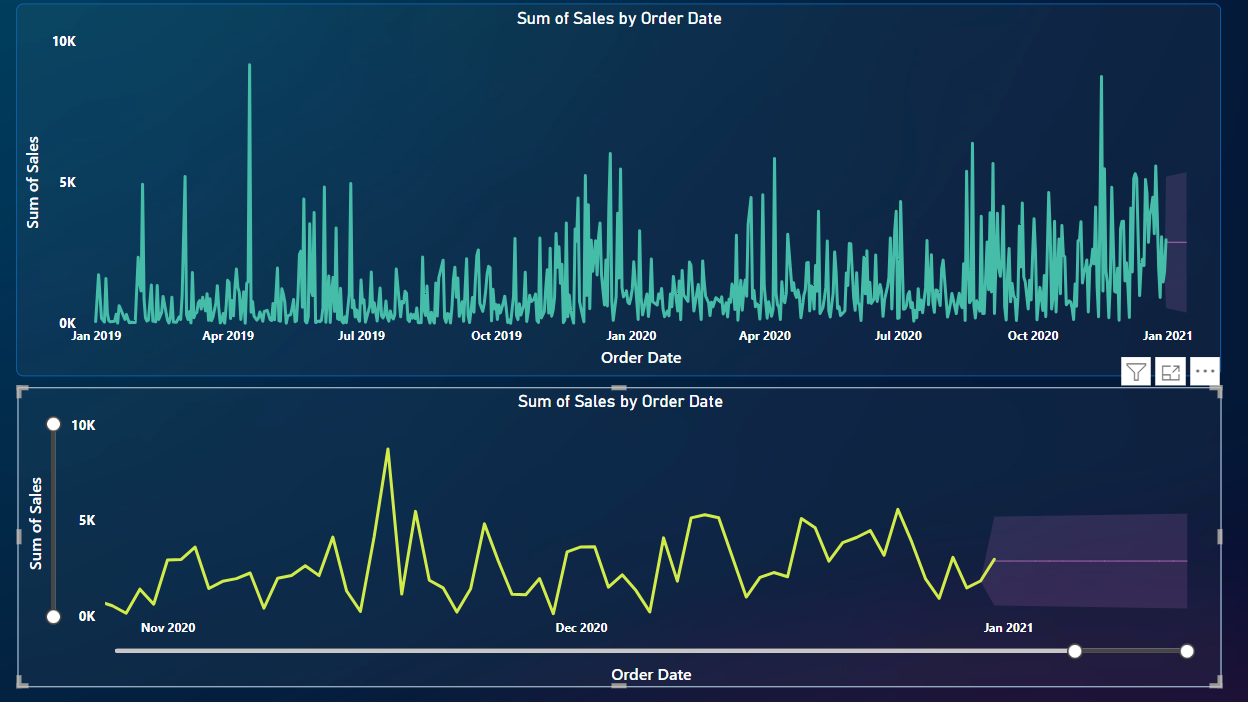

What the dashboard file says about the page in this screenshot:
{"tool":"powerbi","page":{"name":"Page 2","canvas":[1280,720],"ordinal":1},"visuals":[{"type":"lineChart","fields":{"Y":["Sum(SuperStore_Sales_Dataset.Sales)"],"Category":["SuperStore_Sales_Dataset.Order Date"]},"box":[36.7,12.2,1204.5,373],"z":0},{"type":"lineChart","fields":{"Y":["Sum(SuperStore_Sales_Dataset.Sales)"],"Category":["SuperStore_Sales_Dataset.Order Date"]},"box":[37.1,395.9,1204.1,300],"z":1}]}

Visuals, with their boxes in screenshot pixels (x1, y1, x2, y2), scaled from the page's 1280x720 canvas onto the 1248x702 screenshot:
lineChart - Sum(SuperStore_Sales_Dataset.Sales) x SuperStore_Sales_Dataset.Order Date: box=[36, 12, 1210, 376]
lineChart - Sum(SuperStore_Sales_Dataset.Sales) x SuperStore_Sales_Dataset.Order Date: box=[36, 386, 1210, 679]
